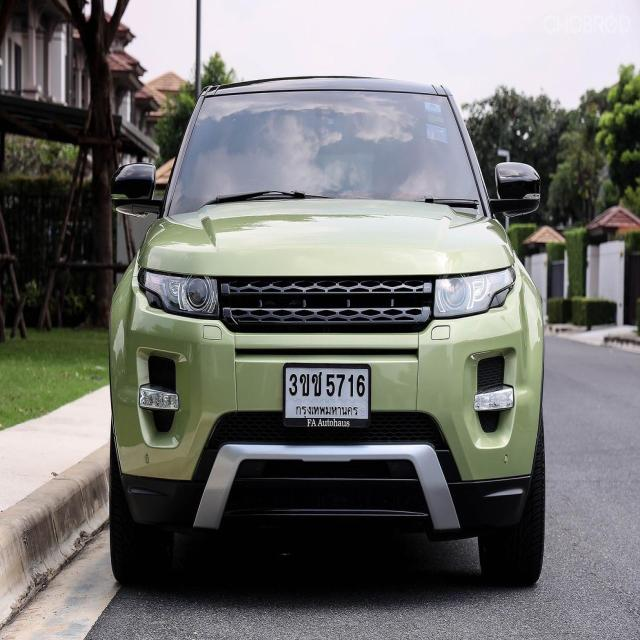license_plate: (281, 363, 374, 432)
